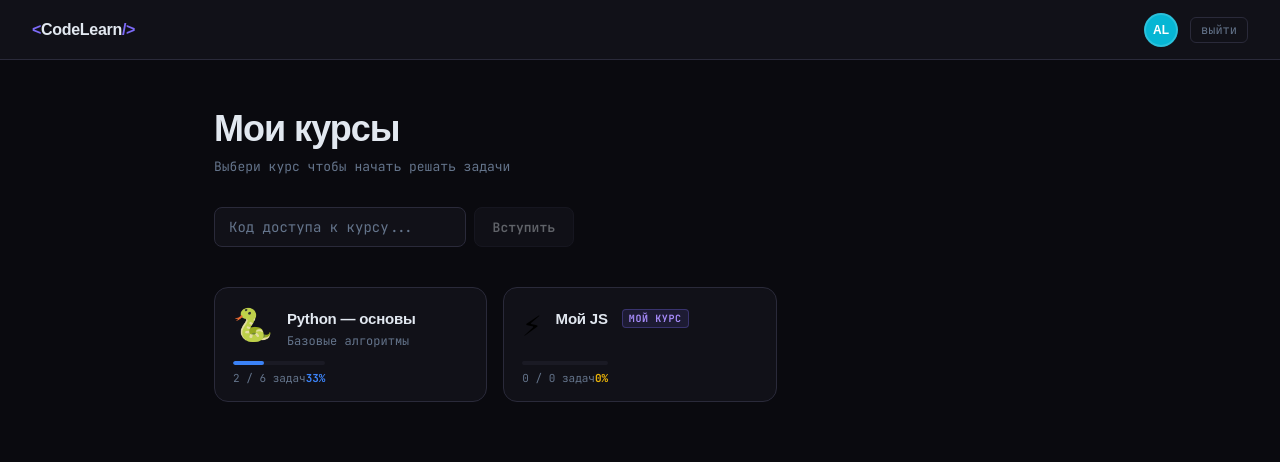
Scenario: вступление по коду › успех: сообщение, поле очищается, список перезагружается
The width and height of the screenshot is (1280, 462).
Expected: the text "Python — основы" is shown, [287,309,416,328]
Type "abcd2345" into the field with placeholder "Код доступа к курсу..." at (340, 227), box [214,207,466,247]
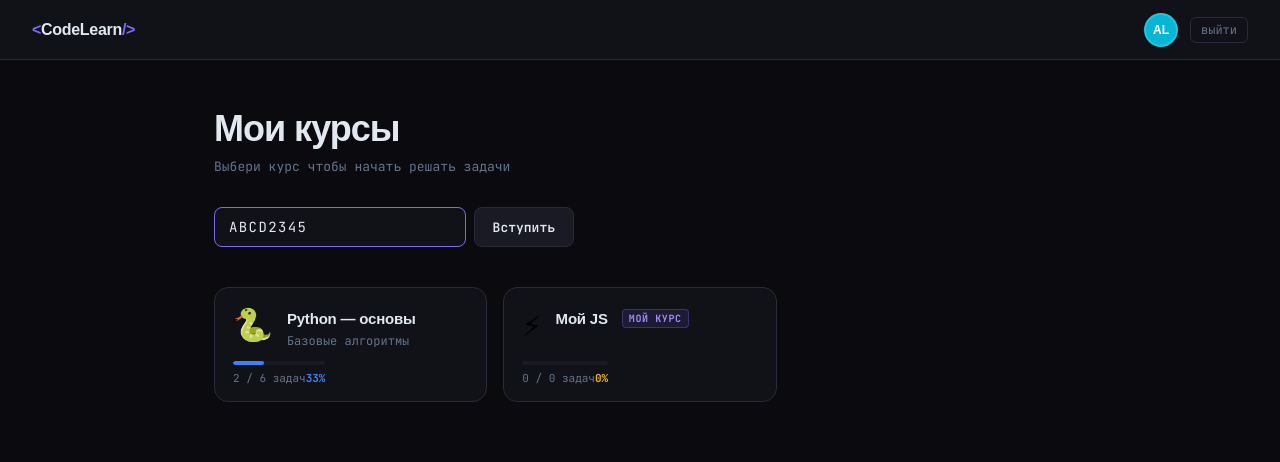
Click the button "Вступить" at (524, 227), box [474,207,574,247]
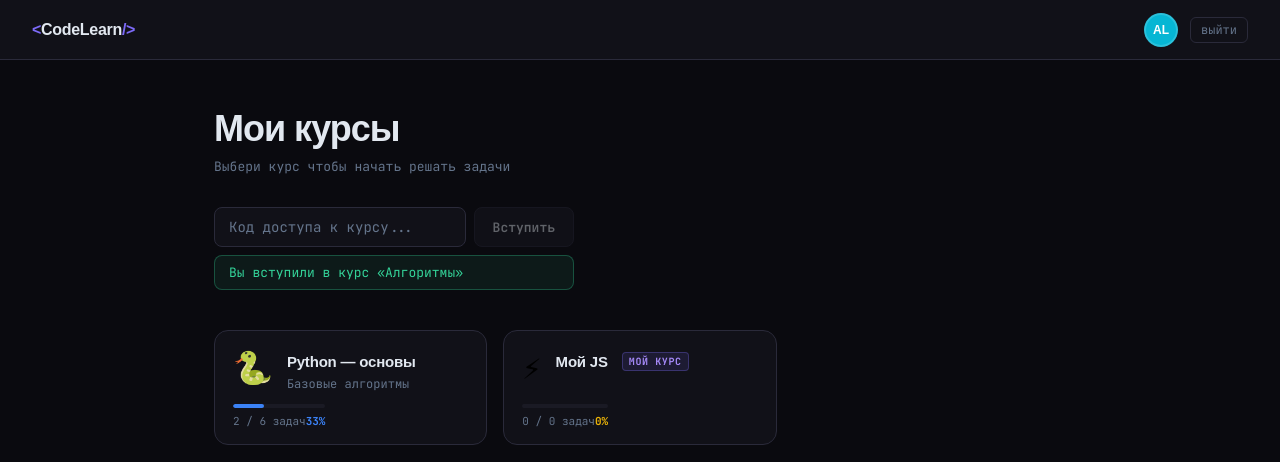
Expected: the text "Вы вступили в курс «Алгоритмы»" is shown, [214,255,574,290]
Expected: the field with placeholder "Код доступа к курсу..." is empty, [214,207,466,247]
